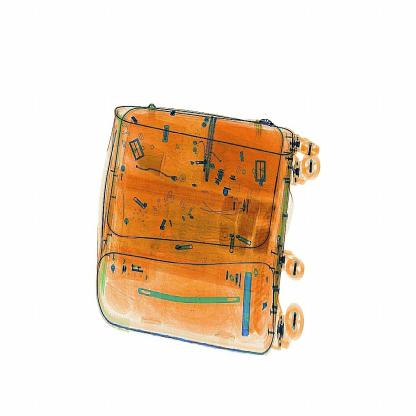pliers: (240, 264, 256, 346)
